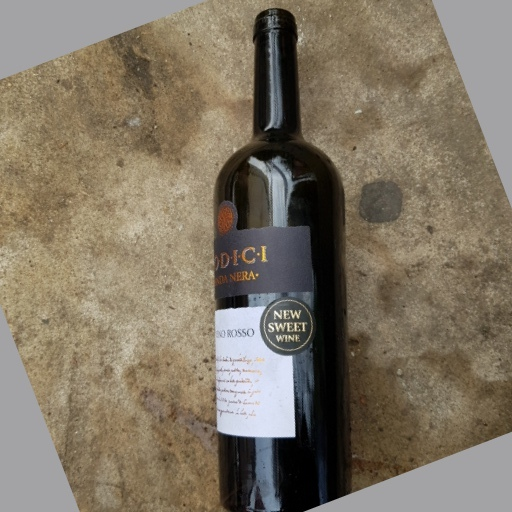Glass_2: (212, 7, 350, 512)
